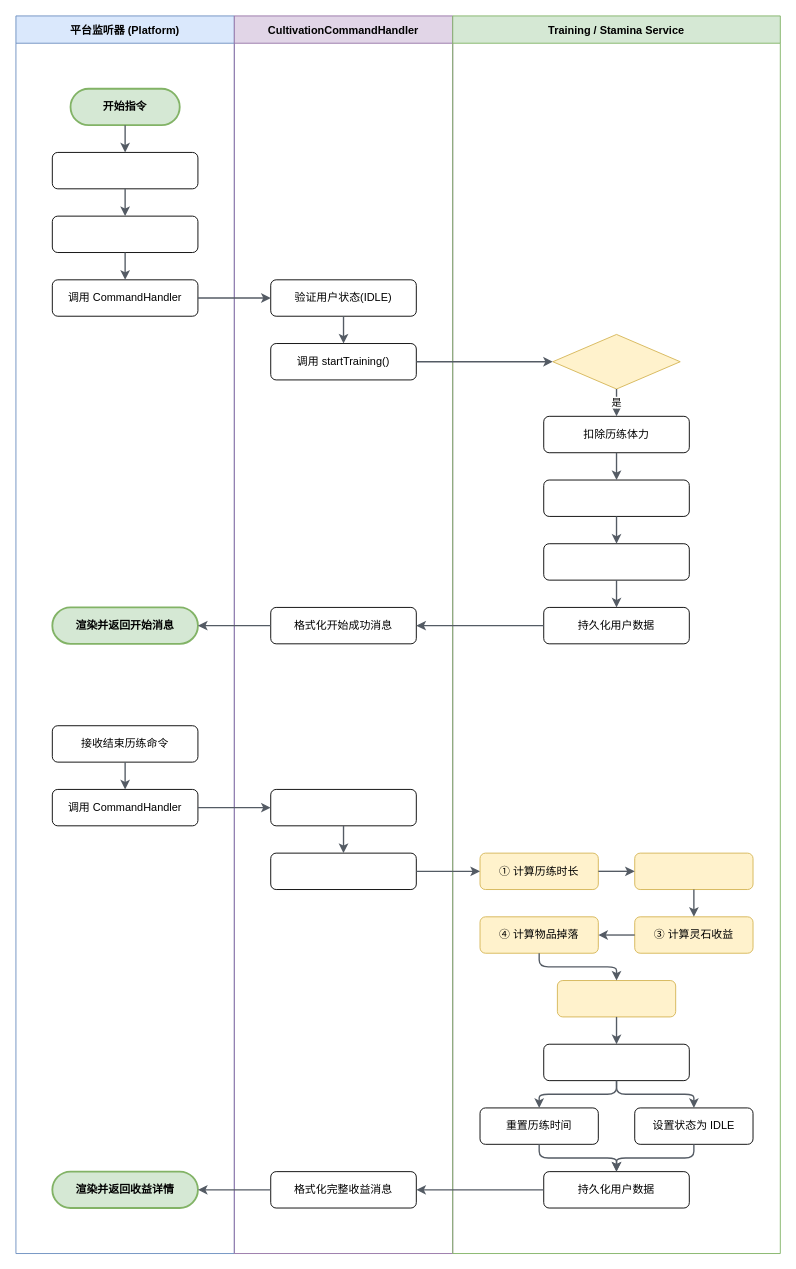
Image size: 796x1269. Some labels were removed from this diagram. The centre of each missing label's shape, as x and y in pixels:
② 计算铜币收益: point (693, 871)
⑤ 计算经验收益: point (616, 998)
应用所有收益到用户: point (616, 1062)
接收开始历练命令: point (124, 170)
检查体力足够: point (616, 361)
检查是否在历练中: point (343, 807)
记录 training_start_time: point (616, 497)
设置状态为 TRAINING: point (616, 561)
调用 endTraining(): point (343, 871)
身份认证获取userId: point (124, 234)
